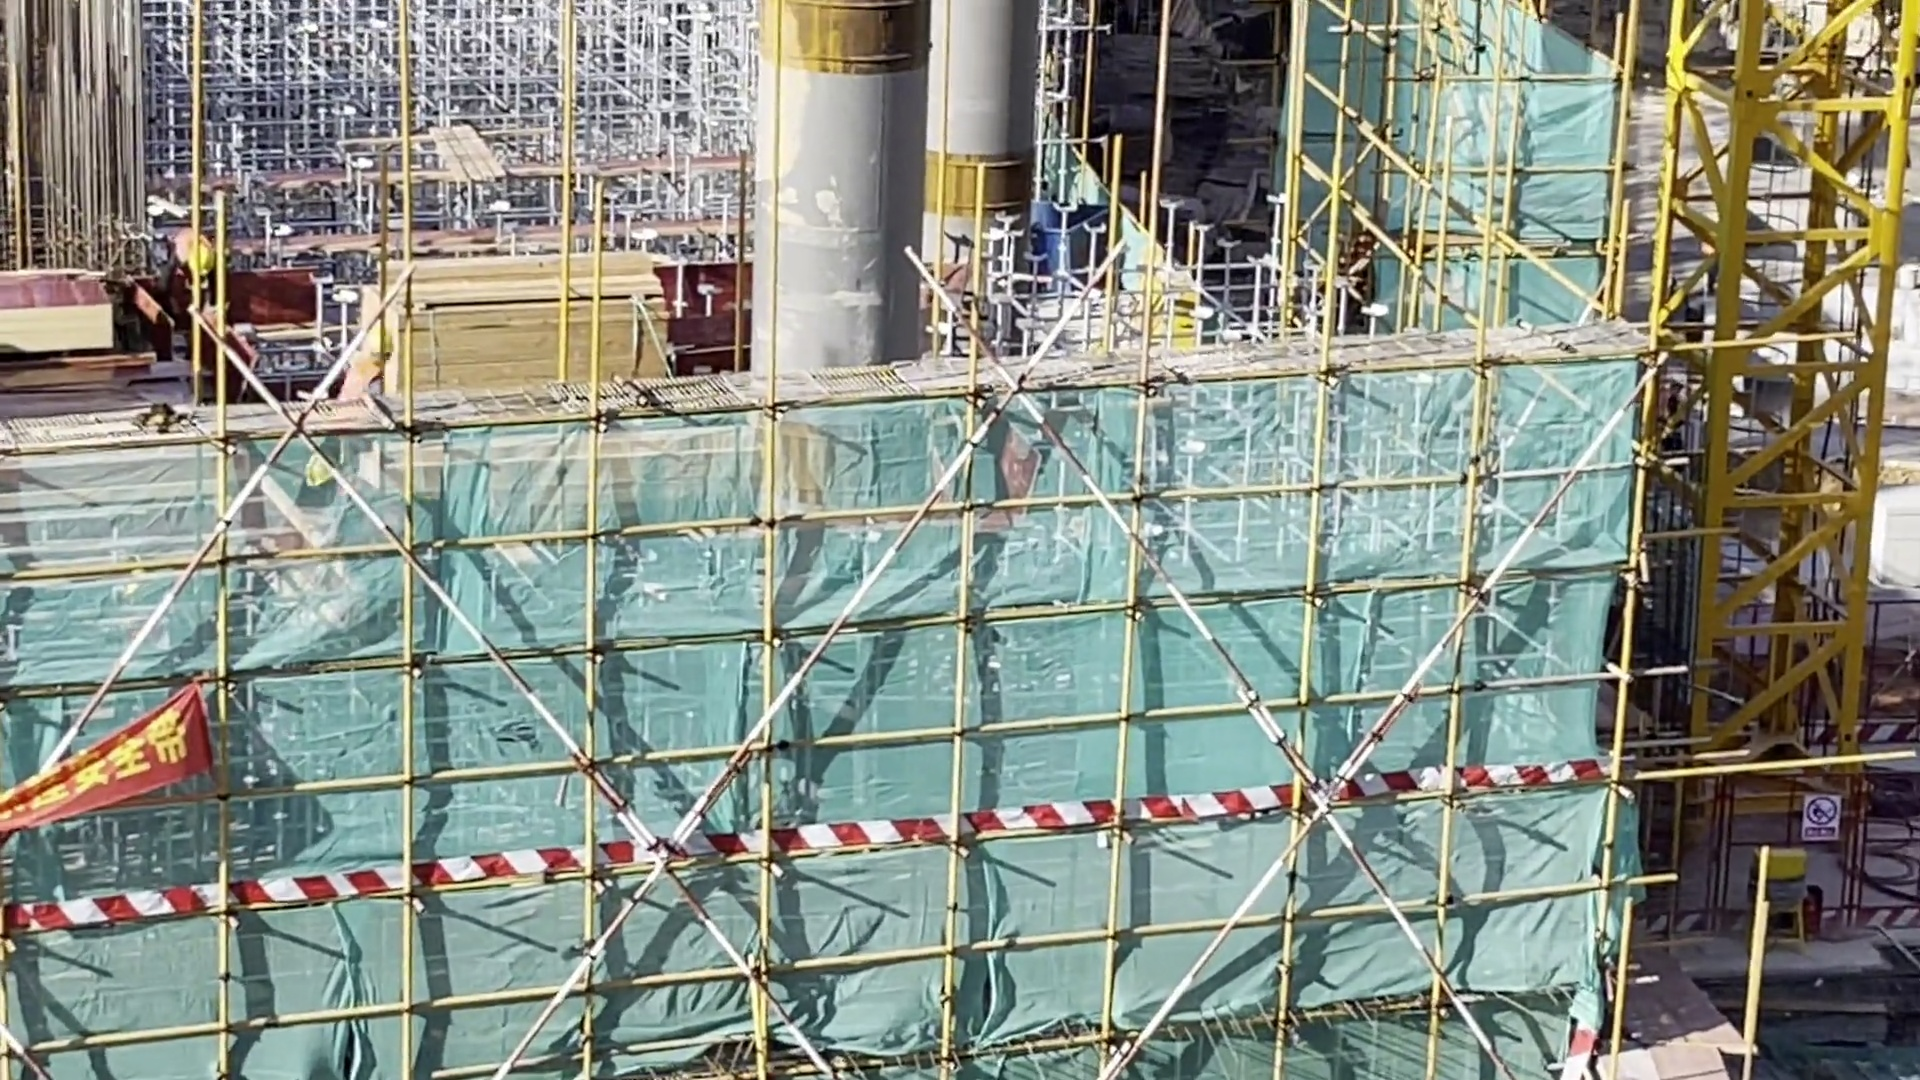helmet: (356, 331, 396, 361)
person: (334, 328, 408, 419)
slogan: (1, 679, 221, 832)
vest: (337, 356, 382, 405)
wood: (356, 232, 704, 412)
